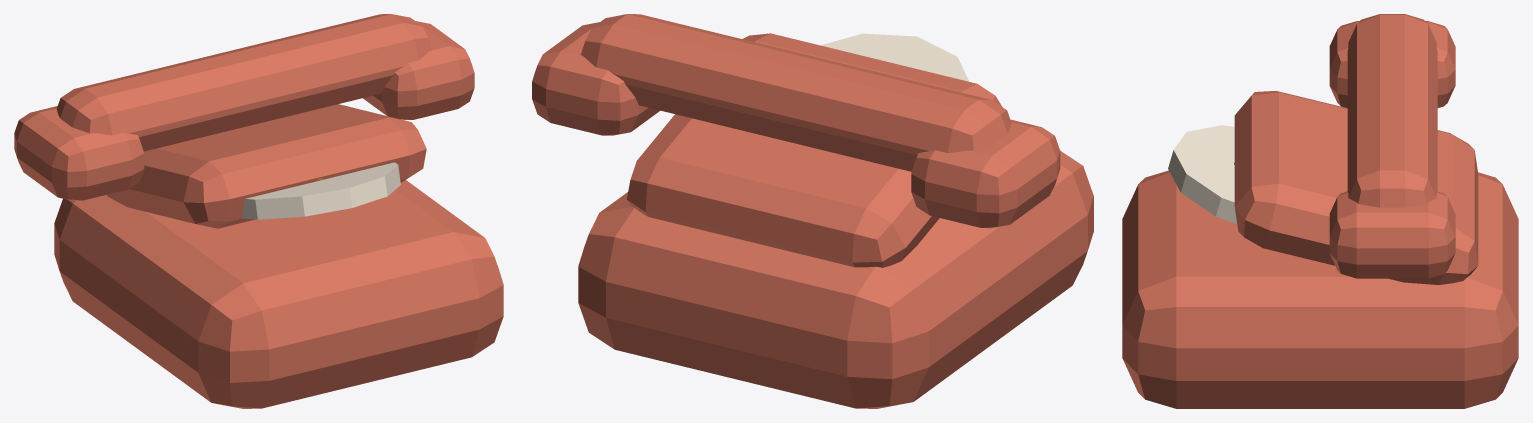
The model's file is rotary_phone.glb.
3 views of the same model, side by side, from view 1: azimuth 30°, elevation 25°; view 2: azimuth 150°, elevation 25°; view 3: azimuth 270°, elevation 25° (orthographic). The views are drawn at different scales.
Visible parts, largest first — view 1: rotary_phone; view 2: rotary_phone; view 3: rotary_phone.
Boxes of the visible parts, <box> form: rotary_phone: <box>14,14,503,408</box>; rotary_phone: <box>532,14,1093,408</box>; rotary_phone: <box>1122,14,1518,408</box>.
Bounding box in the file's own units: 0.28 × 0.16 × 0.22.
